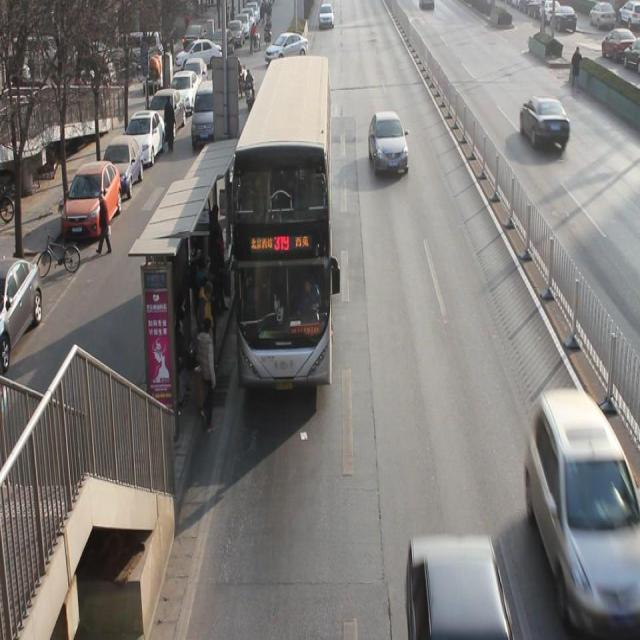car: (526, 400, 632, 605), (368, 114, 410, 181), (519, 98, 572, 151)
van: (231, 56, 333, 385)
